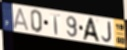0: (30, 9, 44, 34)
9: (65, 15, 79, 39)
A: (81, 17, 101, 44), (13, 7, 30, 33)
J: (101, 22, 113, 43)
T: (50, 13, 62, 36)
